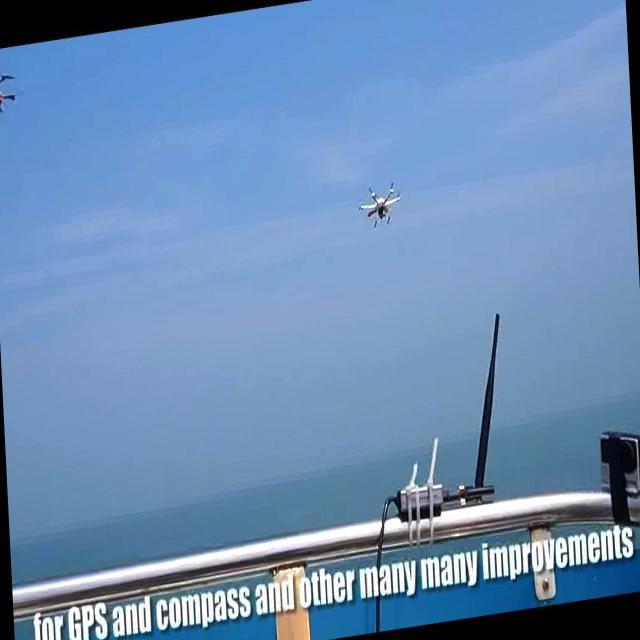drone: (350, 169, 412, 242), (0, 66, 22, 144)
